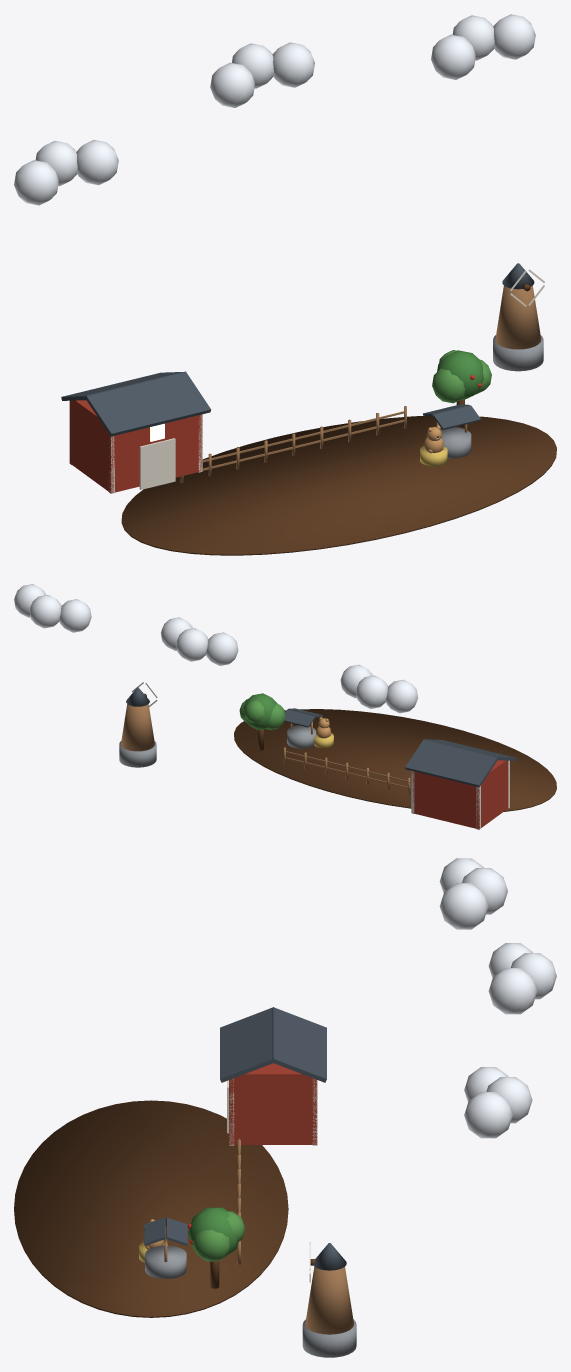
The model's file is harvest_meadow.glb.
The picture shows the model from 3 angles, top to bottom: view 1: azimuth 30°, elevation 25°; view 2: azimuth 150°, elevation 25°; view 3: azimuth 270°, elevation 25°; orthographic projection. The views are drawn at different scales.
Parts seen in each view (by area): view 1: Cylinder.001, Cube.016, Cube.024, Cone, Cube.022, Icosphere.024, Icosphere.021, Icosphere.018, Icosphere.023, Icosphere.020, Icosphere.026, Icosphere.010 (+8 smaller); view 2: Cylinder.001, Cube.016, Cube.025, Cone, Icosphere.022, Icosphere.024, Icosphere.018, Icosphere.019, Icosphere.021, Icosphere.025, Cylinder.016, Icosphere.026 (+8 smaller); view 3: Cylinder.001, Cube.016, Cube.024, Cube.025, Cone, Icosphere.020, Icosphere.023, Icosphere.026, Cylinder.016, Cylinder.018, Icosphere.019, Icosphere.025 (+6 smaller).
Part boxes in pixels (box(x1,y1,x2,y2)): Cylinder.001: box(121, 416, 556, 555); Cube.016: box(69, 400, 202, 493); Cube.024: box(85, 371, 211, 436); Cone: box(495, 285, 541, 349); Cube.022: box(139, 438, 175, 489); Icosphere.024: box(431, 34, 475, 79); Icosphere.021: box(210, 62, 255, 107); Icosphere.018: box(14, 160, 58, 205); Icosphere.023: box(272, 42, 314, 87); Icosphere.020: box(76, 140, 118, 185); Icosphere.026: box(493, 14, 535, 59); Icosphere.010: box(437, 350, 483, 400); Cylinder.001: box(234, 709, 556, 811); Cube.016: box(411, 760, 508, 829); Cube.025: box(405, 739, 497, 787); Cone: box(121, 704, 154, 751); Icosphere.022: box(176, 628, 208, 661); Icosphere.024: box(59, 599, 91, 632); Icosphere.018: box(386, 679, 417, 713); Icosphere.019: box(356, 675, 387, 708); Icosphere.021: box(206, 632, 238, 665); Icosphere.025: box(29, 594, 61, 628); Cylinder.016: box(119, 741, 156, 767); Icosphere.026: box(14, 584, 45, 617); Cylinder.001: box(14, 1100, 288, 1317); Cube.016: box(229, 1063, 317, 1144); Cube.024: box(220, 1007, 275, 1082); Cube.025: box(272, 1007, 326, 1082); Cone: box(305, 1267, 353, 1334); Icosphere.020: box(439, 883, 488, 929); Icosphere.023: box(488, 968, 537, 1014); Icosphere.026: box(464, 1092, 512, 1138); Cylinder.016: box(302, 1319, 356, 1357); Cylinder.018: box(145, 1245, 186, 1278); Icosphere.019: box(462, 868, 507, 914); Icosphere.025: box(486, 1077, 532, 1123).
Size of what is drawn, in the model's own units: 28.09 by 13.77 by 22.22.
